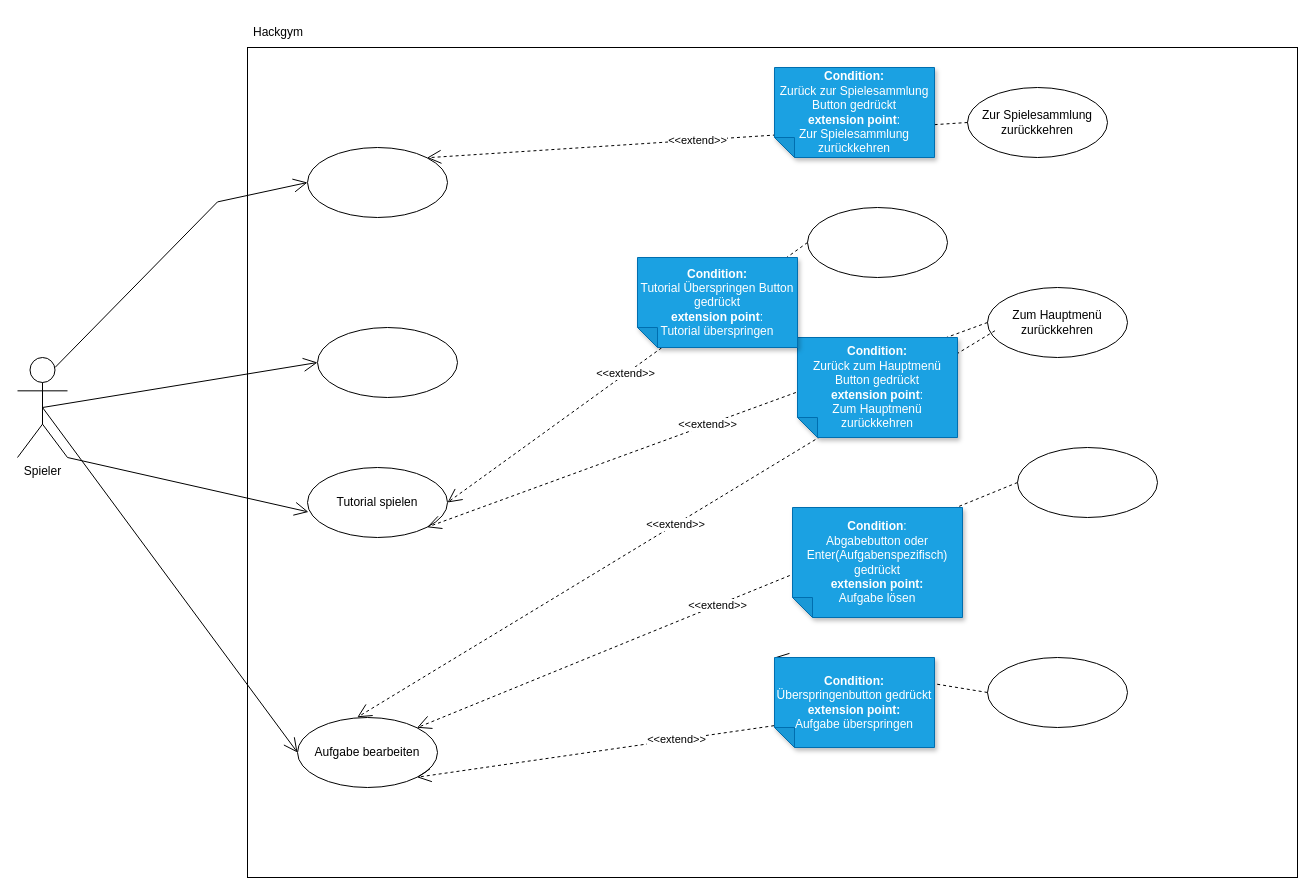
This 1315x895 diagram has some shape labels left out. Here are the shapes that lost their labels. From the top down, the centre of each, then its label:
the point at 377,182: Schwierigkeitsgrad wählen
the point at 877,242: Tutorial überspringen
the point at 387,362: Spiel starten
the point at 1087,482: Aufgabe lösen
the point at 1057,692: Aufgabe überspringen
